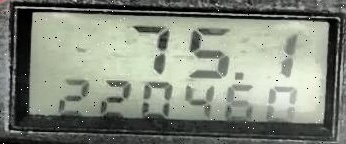-: (233, 71, 246, 80)
0: (264, 84, 297, 123), (140, 80, 172, 118)
1: (277, 32, 298, 79)
2: (97, 79, 130, 118), (56, 77, 89, 115)
4: (183, 83, 213, 118)
5: (187, 26, 229, 77)
6: (222, 83, 253, 121)
7: (130, 23, 169, 74)
